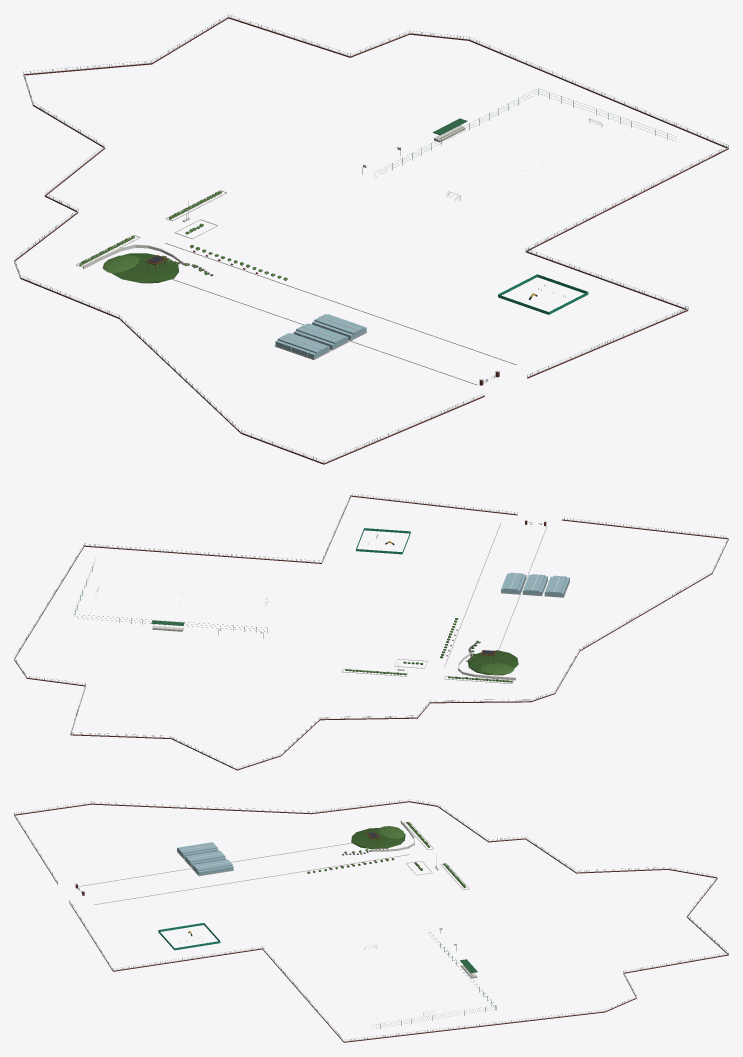
3 views of the same model, one above another, from view 1: azimuth 30°, elevation 25°; view 2: azimuth 150°, elevation 25°; view 3: azimuth 270°, elevation 25° (orthographic). The views are drawn at different scales.
Visible parts, largest first — view 1: prop_boundary-fence, prop_flowerbeds, prop_south-gate, prop_backstop-fence; view 2: prop_boundary-fence, prop_flowerbeds, prop_backstop-fence; view 3: prop_boundary-fence, prop_flowerbeds, prop_south-gate, prop_backstop-fence.
Part boxes in pixels (left/top/right/bottom): prop_boundary-fence: left=14, top=14, right=728, bottom=464; prop_flowerbeds: left=76, top=190, right=588, bottom=359; prop_south-gate: left=165, top=243, right=516, bottom=385; prop_backstop-fence: left=374, top=88, right=675, bottom=177; prop_boundary-fence: left=14, top=493, right=728, bottom=770; prop_flowerbeds: left=342, top=528, right=569, bottom=683; prop_backstop-fence: left=74, top=563, right=267, bottom=632; prop_boundary-fence: left=14, top=799, right=728, bottom=1042; prop_flowerbeds: left=158, top=820, right=469, bottom=950; prop_south-gate: left=75, top=843, right=409, bottom=904; prop_backstop-fence: left=376, top=929, right=496, bottom=1028.
Size of the model in its own units: 303 by 8.9 by 381.
22 materials, 1 textured.
